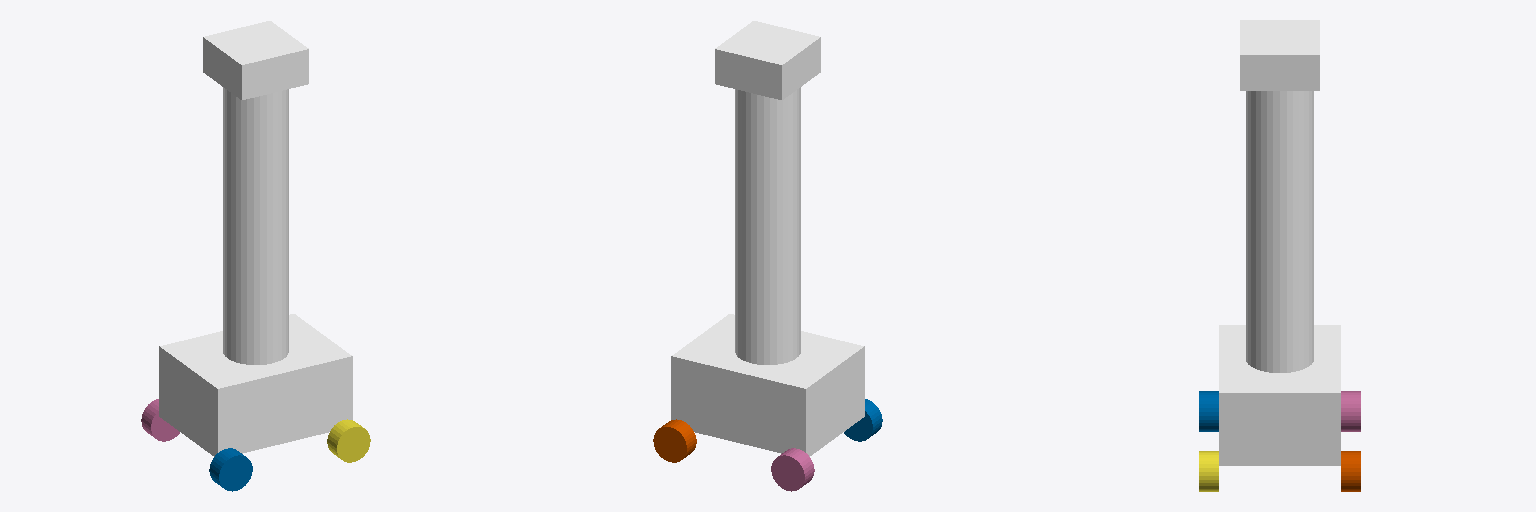
The robot description file, URDF, robot "test_bot":
<?xml version="1.0"?>

<robot name="test_bot">

<!--Materials-->
  <material name="blue">
    <color rgba="0 0 0.8 1"/>
  </material>
  <material name="black">
    <color rgba="0 0 0 1"/>
  </material>
  <material name="white">
    <color rgba="1 1 1 1"/>
  </material>

<!--Base-->

  <link name="base">
    <origin rpy="0 0 0" xyz="0 0 0"/>
    <visual>
      <geometry>
         <box size="0.4 0.3 0.2"/>
      </geometry>
      <origin rpy="0 0 0" xyz="0 0 0.125"/>
      <material name="white"/>
    </visual>
    <collision>
      <geometry>
         <box size="0.4 0.3 0.2"/>
      </geometry>
      <origin rpy="0 0 0" xyz="0 0 0.125"/>
    </collision>
    <inertial>
      <mass value="10"/>
      <inertia ixx="0.1" ixy="0.0" ixz="0.0" iyy="0.1" iyz="0.0" izz="0.1"/>
    </inertial>
  </link>

  <link name="uv_base">
    <origin rpy="0 0 0" xyz="0 0 0"/>
    <visual>
      <geometry>
         <cylinder length="1.0" radius="0.085"/>
      </geometry>
      <origin rpy="0 0 0" xyz="0 0 0"/>
      <material name="white"/>
    </visual>
    <collision>
      <geometry>
         <cylinder length="1.0" radius="0.085"/>
      </geometry>
      <origin rpy="0 0 0" xyz="0 0 0"/>
    </collision>
    <inertial>
      <mass value="10"/>
      <inertia ixx="0.00001" ixy="0.0" ixz="0.0" iyy="0.00001" iyz="0.0" izz="0.00001"/>
    </inertial>
  </link>

  <joint name="uv_base_body" type="fixed">
    <parent link="base"/>
    <child link="uv_base"/>
    <origin rpy="0 0 0" xyz="0 0 0.6"/>
    <axis rpy="0 0 0" xyz="0 1 0"/>
    <dynamics damping="1.0" friction="1.0"/>
    <limit effort="10000" velocity="1000"/>
  </joint>

  <link name="uv_top">
    <origin rpy="0 0 0" xyz="0 0 0"/>
    <visual>
      <geometry>
         <box size="0.2 0.2 0.1"/>
      </geometry>
      <origin rpy="0 0 0" xyz="0 0 0"/>
      <material name="white"/>
    </visual>
    <collision>
      <geometry>
         <box size="0.4 0.3 0.2"/>
      </geometry>
      <origin rpy="0 0 0" xyz="0 0 0"/>
    </collision>
    <inertial>
      <mass value="10"/>
      <inertia ixx="0.00001" ixy="0.0" ixz="0.0" iyy="0.00001" iyz="0.0" izz="0.00001"/>
    </inertial>
  </link>

  <joint name="uv_base_top" type="fixed">
    <parent link="uv_base"/>
    <child link="uv_top"/>
    <origin rpy="0 0 0" xyz="0 0 0.45"/>
    <axis rpy="0 0 0" xyz="0 1 0"/>
    <dynamics damping="1.0" friction="1.0"/>
    <limit effort="10000" velocity="1000"/>
  </joint>

<!--front_right_wheel-->
  <link name="front_right_wheel">
    <visual>
      <geometry>
      <cylinder length="0.05" radius="0.05"/>
      </geometry>
      <origin rpy="1.5707 0 0" xyz="0 0 0"/> 
    </visual>
    <collision>
      <geometry>
      <cylinder length="0.05" radius="0.05"/>
      </geometry>
      <origin rpy="1.5707 0 0" xyz="0 0 0"/> 
    </collision>
    <inertial>
      <mass value="5"/>
      <inertia ixx="0.14" ixy="0.0" ixz="0.0" iyy="0.14" iyz="0.0" izz="0.12"/>
      <origin rpy="1.5707 0 0" xyz="0 0 0"/> 
    </inertial>
  </link>

  <joint name="base_to_front_right_wheel" type="fixed">
    <parent link="base"/>
    <child link="front_right_wheel"/>
    <origin rpy="0 0 0" xyz="0.175 -0.175 0"/>
    <axis rpy="0 0 0" xyz="0 1 0"/>
    <dynamics damping="1.0" friction="1.0"/>
    <limit effort="10000" velocity="1000"/>
  </joint>

<!--back_right_wheel-->
  <link name="back_right_wheel">
    <visual>
      <geometry>
      <cylinder length="0.05" radius="0.05"/>
      </geometry>
      <origin rpy="1.5707 0 0" xyz="0 0 0"/> 
    </visual>
    <collision>
      <geometry>
      <cylinder length="0.05" radius="0.05"/>
      </geometry>
      <origin rpy="1.5707 0 0" xyz="0 0 0"/> 
    </collision>
    <inertial>
      <mass value="5"/>
      <inertia ixx="0.14" ixy="0.0" ixz="0.0" iyy="0.14" iyz="0.0" izz="0.12"/>
      <origin rpy="1.5707 0 0" xyz="0 0 0"/> 
    </inertial>
  </link>

  <joint name="base_to_back_right_wheel" type="fixed">
    <parent link="base"/>
    <child link="back_right_wheel"/>
    <origin rpy="0 0 0" xyz="-0.175 -0.175 0"/>
    <axis rpy="0 0 0" xyz="0 1 0"/>
    <dynamics damping="1.0" friction="1.0"/>
    <limit effort="10000" velocity="1000"/>
  </joint>

<!--front_left_wheel-->
  <link name="front_left_wheel">
    <visual>
      <geometry>
      <cylinder length="0.05" radius="0.05"/>
      </geometry>
      <origin rpy="1.5707 0 0" xyz="0 0 0"/> 
    </visual>
    <collision>
      <geometry>
      <cylinder length="0.05" radius="0.05"/>
      </geometry>
      <origin rpy="1.5707 0 0" xyz="0 0 0"/> 
    </collision>
    <inertial>
      <mass value="5"/>
      <inertia ixx="0.14" ixy="0.0" ixz="0.0" iyy="0.14" iyz="0.0" izz="0.12"/>
      <origin rpy="1.5707 0 0" xyz="0 0 0"/> 
    </inertial>
  </link>

  <joint name="base_to_front_left_wheel" type="fixed">
    <parent link="base"/>
    <child link="front_left_wheel"/>
    <origin rpy="0 0 0" xyz="0.175 0.175 0"/>
    <axis rpy="0 0 0" xyz="0 1 0"/>
    <dynamics damping="1.0" friction="1.0"/>
    <limit effort="10000" velocity="1000"/>
  </joint>

<!--back_left_wheel-->
  <link name="back_left_wheel">
    <visual>
      <geometry>
      <cylinder length="0.05" radius="0.05"/>
      </geometry>
      <origin rpy="1.5707 0 0" xyz="0 0 0"/> 
    </visual>
    <collision>
      <geometry>
      <cylinder length="0.05" radius="0.05"/>
      </geometry>
      <origin rpy="1.5707 0 0" xyz="0 0 0"/> 
    </collision>
    <inertial>
      <mass value="5"/>
      <inertia ixx="0.14" ixy="0.0" ixz="0.0" iyy="0.14" iyz="0.0" izz="0.12"/>
      <origin rpy="1.5707 0 0" xyz="0 0 0"/> 
    </inertial>
  </link>

  <joint name="base_to_back_left_wheel" type="fixed">
    <parent link="base"/>
    <child link="back_left_wheel"/>
    <origin rpy="0 0 0" xyz="-0.175 0.175 0"/>
    <axis rpy="0 0 0" xyz="0 1 0"/>
    <dynamics damping="1.0" friction="1.0"/>
    <limit effort="10000" velocity="1000"/>
  </joint>

<!--controller plugin-->
  <gazebo>
    <plugin name="object_controller" filename="libgazebo_ros_planar_move.so">
      <commandTopic>cmd_vel</commandTopic>
      <odometryTopic>odom</odometryTopic>
      <odometryFrame>odom</odometryFrame>
      <odometryRate>20.0</odometryRate>
      <robotBaseFrame>base</robotBaseFrame>
    </plugin>
  </gazebo>

<!--Camera-->
<link name="camera_link">
    <collision>
      <origin xyz="0 0 0" rpy="0 0 0"/>
      <geometry>
       <mesh filename="package://uvd_description/meshes/camera_link.stl"/>
      </geometry>
    </collision>
    <visual>
      <origin xyz="0 0 0" rpy="0 0 0"/>
      <geometry>
       <mesh filename="package://uvd_description/meshes/camera_link.stl"/>
      </geometry>
    </visual>
    <inertial>
      <mass value="1e-5" />
      <origin xyz="0 0 0" rpy="0 0 0"/>
      <inertia ixx="1e-6" ixy="0" ixz="0" iyy="1e-6" iyz="0" izz="1e-6" />
    </inertial>
  </link>
   
  <joint name="camera_joint" type="fixed">
    <parent link="uv_top"/>
    <child link="camera_link"/>
    <axis xyz="0 0 0" />
    <origin xyz="0.105 0 0" rpy="0 0 0"/>
  </joint>

<!--camera plugins-->
  <gazebo reference="camera_link">
    <sensor type="camera" name="camera1">
      <update_rate>30.0</update_rate>
      <camera name="head">
        <horizontal_fov>1.3962634</horizontal_fov>
        <image>
          <width>800</width>
          <height>800</height>
          <format>R8G8B8</format>
        </image>
        <clip>
          <near>0.02</near>
          <far>300</far>
        </clip>
        <noise>
          <type>gaussian</type>
          <!-- Noise is sampled independently per pixel on each frame.
               That pixel's noise value is added to each of its color
               channels, which at that point lie in the range [0,1]. -->
          <mean>0.0</mean>
          <stddev>0.007</stddev>
        </noise>
      </camera>
      <plugin name="camera_controller" filename="libgazebo_ros_camera.so">
        <alwaysOn>true</alwaysOn>
        <updateRate>0.0</updateRate>
        <cameraName>rrbot/camera1</cameraName>
        <imageTopicName>image_raw</imageTopicName>
        <cameraInfoTopicName>camera_info</cameraInfoTopicName>
        <frameName>camera_link</frameName>
        <hackBaseline>0.07</hackBaseline>
        <distortionK1>0.0</distortionK1>
        <distortionK2>0.0</distortionK2>
        <distortionK3>0.0</distortionK3>
        <distortionT1>0.0</distortionT1>
        <distortionT2>0.0</distortionT2>
      </plugin>
    </sensor>
  </gazebo>

<!--intel realsense depth camera-->
  <link name="realsense_link">
    <collision>
      <origin xyz="0 0 0" rpy="0 0 0"/>
      <geometry>
       <mesh filename="package://uvd_description/meshes/realsense_link.stl"/>
      </geometry>
    </collision>
    <visual>
      <origin xyz="0 0 0" rpy="0 0 0"/>
      <geometry>
       <mesh filename="package://uvd_description/meshes/realsense_link.stl"/>
      </geometry>
    </visual>
    <inertial>
      <mass value="1e-5" />
      <origin xyz="0 0 0" rpy="0 0 0"/>
      <inertia ixx="1e-6" ixy="0" ixz="0" iyy="1e-6" iyz="0" izz="1e-6" />
    </inertial>
  </link>

  <joint name="camera_optical_joint" type="fixed">
    <origin xyz="0 0 0.675" rpy="-1.5707 0 -1.5707"/>
    <parent link="base"/>
    <child link="camera_frame_optical"/>
  </joint>
  
  <link name="camera_frame_optical"/>

  <joint name="base_to_depth_camera" type="fixed">
    <parent link="base"/>
    <child link="realsense_link"/>
    <origin xyz="0.0925 0 0.675" rpy="0 0 0"/>
  </joint>

<!--intel realsense depth camera plugin-->
  <gazebo reference="realsense_link">
   <sensor name="realsense" type="depth">
    <update_rate>20</update_rate>
    <camera>
      <horizontal_fov>1.047198</horizontal_fov>
      <image>
        <width>640</width>
        <height>480</height>
        <format>R8G8B8</format>
      </image>
      <clip>
        <near>0.05</near>
        <far>3</far>
      </clip>
    </camera>
    <plugin name="realsense_controller" filename="libgazebo_ros_openni_kinect.so">
      <baseline>0.2</baseline>
      <alwaysOn>true</alwaysOn>
      <updateRate>1.0</updateRate>
      <cameraName>realsense_ir</cameraName>
      <imageTopicName>/realsense/color/image_raw</imageTopicName>
      <cameraInfoTopicName>/realsense/color/camera_info</cameraInfoTopicName>
      <depthImageTopicName>/realsense/depth/image_raw</depthImageTopicName>
      <depthImageInfoTopicName>/realsense/depth/camera_info</depthImageInfoTopicName>
      <pointCloudTopicName>/realsense/depth/points</pointCloudTopicName>
      <frameName>camera_frame_optical</frameName>
      <pointCloudCutoff>0.05</pointCloudCutoff>
      <pointCloudCutoffMax>3</pointCloudCutoffMax>
      <distortionK1>0.00000001</distortionK1>
      <distortionK2>0.00000001</distortionK2>
      <distortionK3>0.00000001</distortionK3>
      <distortionT1>0.00000001</distortionT1>
      <distortionT2>0.00000001</distortionT2>
      <CxPrime>0</CxPrime>
      <Cx>0</Cx>
      <Cy>0</Cy>
      <focalLength>0</focalLength>
      <hackBaseline>0</hackBaseline>
    </plugin>
   </sensor>
  </gazebo>

<!--IMU-->
  <link name="imu_link">
    <collision>
      <origin xyz="0 0 0" rpy="0 0 0"/>
      <geometry>
        <box size="0.05 0.05 0.05"/>
      </geometry>
    </collision>

    <visual>
      <origin xyz="0 0 0" rpy="0 0 0"/>
      <material name="blue"/>
      <geometry>
         <box size="0.05 0.05 0.05"/>
      </geometry>
    </visual>

    <inertial>
      <mass value="1e-5" />
      <origin xyz="0 0 0" rpy="0 0 0"/>
      <inertia ixx="1e-6" ixy="0" ixz="0" iyy="1e-6" iyz="0" izz="1e-6" />
    </inertial>
  </link>

  <joint name="base_to_imu" type="fixed">
    <parent link="base"/>
    <child link="imu_link"/>
    <origin rpy="0 0 0" xyz="0 0 0.08"/>
  </joint>

<!--IMU plugin-->
  <gazebo reference="imu_link">
    <gravity>true</gravity>
    <sensor name="imu_sensor" type="imu">
      <always_on>true</always_on>
      <update_rate>100</update_rate>
      <visualize>true</visualize>
      <topic>__default_topic__</topic>
      <plugin filename="libgazebo_ros_imu_sensor.so" name="imu_plugin">
        <topicName>imu</topicName>
        <bodyName>imu_link</bodyName>
        <updateRateHZ>10.0</updateRateHZ>
        <gaussianNoise>0.0</gaussianNoise>
        <xyzOffset>0 0 0</xyzOffset>
        <rpyOffset>0 0 0</rpyOffset>
        <frameName>imu_link</frameName>
        <initialOrientationAsReference>false</initialOrientationAsReference>
      </plugin>
      <pose>0 0 0 0 0 0</pose>
    </sensor>
  </gazebo>

</robot>

--- What the picture shows (computed from the rendered views, not written in the file) ---
3 views of the same robot in one strip: view 1: azimuth 30°, elevation 25°; view 2: azimuth 150°, elevation 25°; view 3: azimuth 270°, elevation 25° (orthographic).
Model test_bot with 11 links and 10 joints (10 fixed), rooted at base, posed every joint at zero.
Visible links, largest first — view 1: uv_base, base, uv_top, front_right_wheel, back_right_wheel, back_left_wheel; view 2: base, uv_base, uv_top, front_left_wheel, back_left_wheel, back_right_wheel; view 3: uv_base, base, uv_top, front_right_wheel, back_right_wheel, front_left_wheel, back_left_wheel.
Link boxes in pixels (x1,y1,x2,y2): uv_base: (223,29,288,364); base: (159,314,352,456); uv_top: (203,21,308,99); front_right_wheel: (327,419,370,462); back_right_wheel: (209,448,252,491); back_left_wheel: (141,399,179,441); base: (671,314,864,456); uv_base: (735,29,800,364); uv_top: (715,21,820,99); front_left_wheel: (653,419,696,462); back_left_wheel: (771,448,814,491); back_right_wheel: (844,399,882,441); uv_base: (1246,24,1313,372); base: (1219,325,1340,465); uv_top: (1240,20,1319,90); front_right_wheel: (1199,451,1218,491); back_right_wheel: (1199,391,1218,431); front_left_wheel: (1341,451,1360,491); back_left_wheel: (1341,391,1360,431).
Size in the robot's own frame: 0.45 by 0.4 by 1.15 metres.
Meshes: 2 distinct files referenced, 0 mesh visuals loaded (none loaded); not drawn: 2 (reference not matched to a file when rendering).